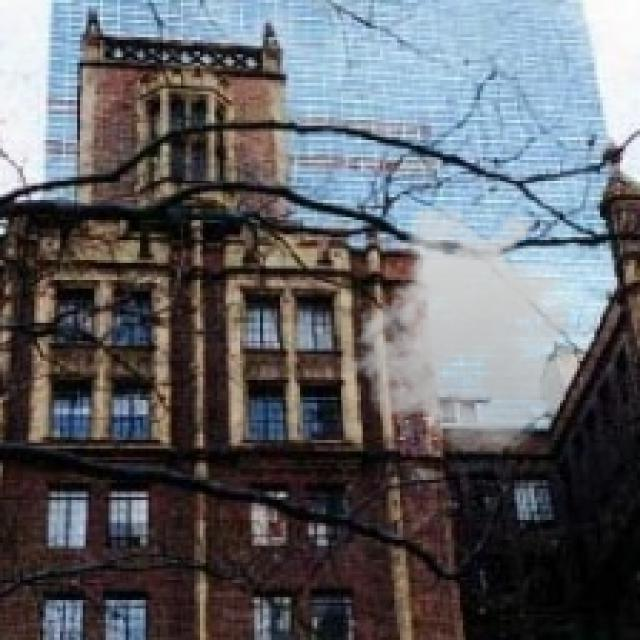smoke: (346, 200, 603, 454)
